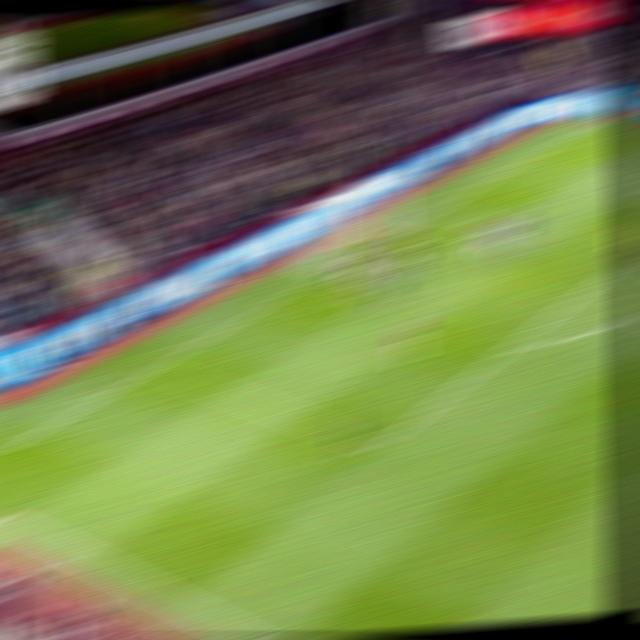bigarea_bottom_inner: (364, 438, 395, 455)
bigarea_bottom_outter: (143, 361, 172, 370)
bigarea_top_outter: (499, 164, 526, 173)
bottom_arc_area_intersection: (494, 340, 526, 355)
corner: (581, 120, 608, 126)
smallarea_bottom_inner: (329, 309, 357, 322)
smallarea_bottom_outter: (265, 291, 294, 304)
smallarea_top_outter: (423, 206, 451, 216)
top_arc_area_intersection: (618, 253, 637, 259)
